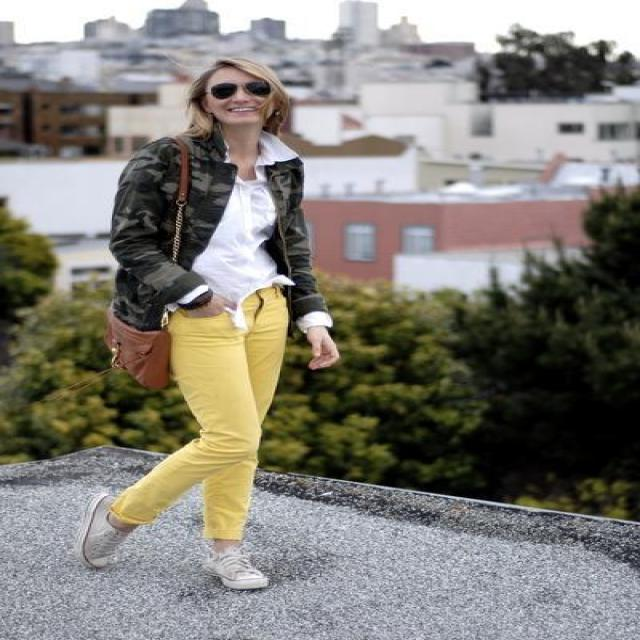bag: (96, 320, 174, 390)
jacket: (96, 115, 315, 335)
pants: (88, 294, 288, 541)
shirt: (189, 172, 286, 319)
shoe: (70, 506, 268, 588)
sunglass: (218, 64, 272, 96)
